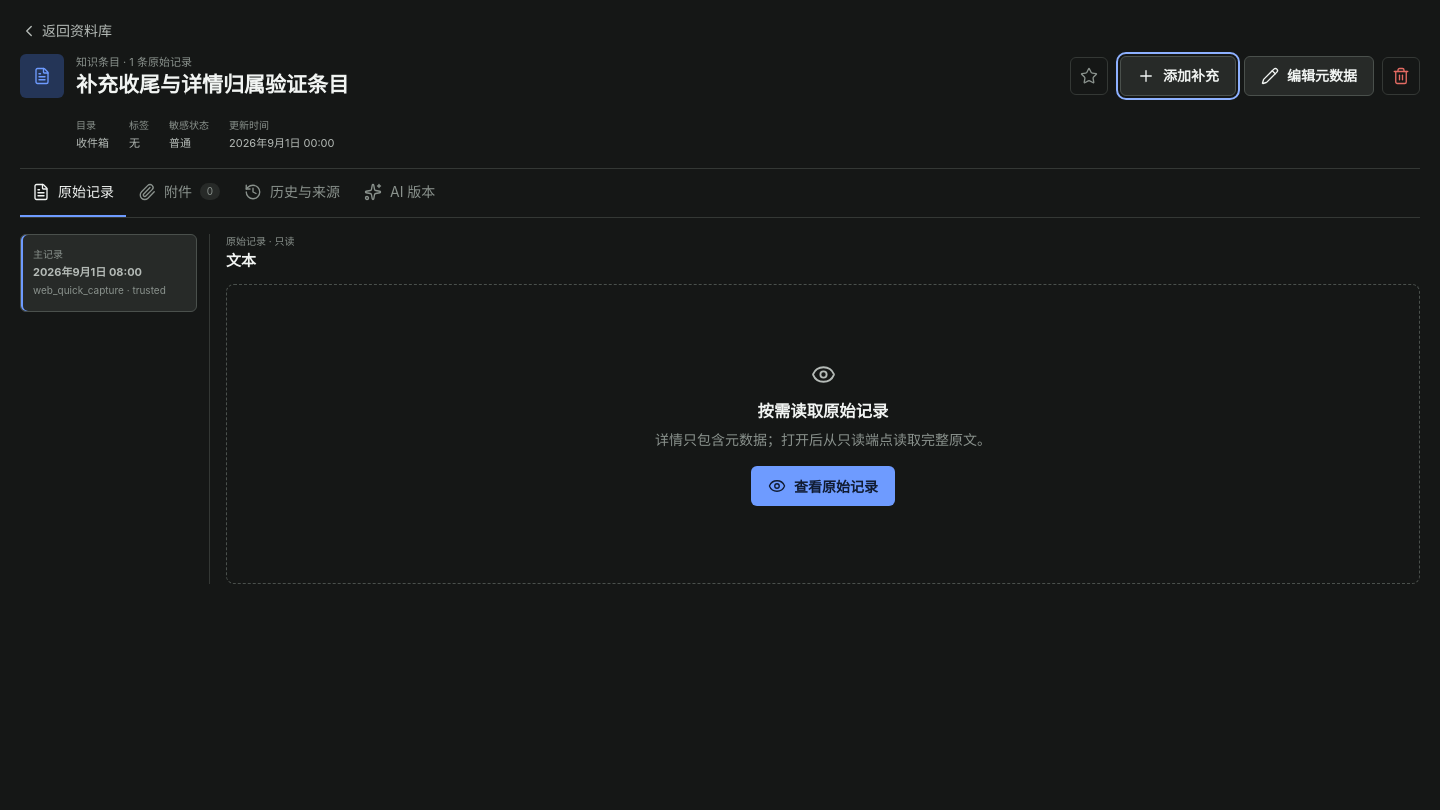
it: ItemDetailView supplement save refresh and detail GET ownership › case1 补充保存成功后焦点回到重载完成后的「添加补充」按钮（而非 BODY）
The image size is (1440, 810).
Click the button "添加补充".
click(1178, 76)  # box [1120, 56, 1236, 96]
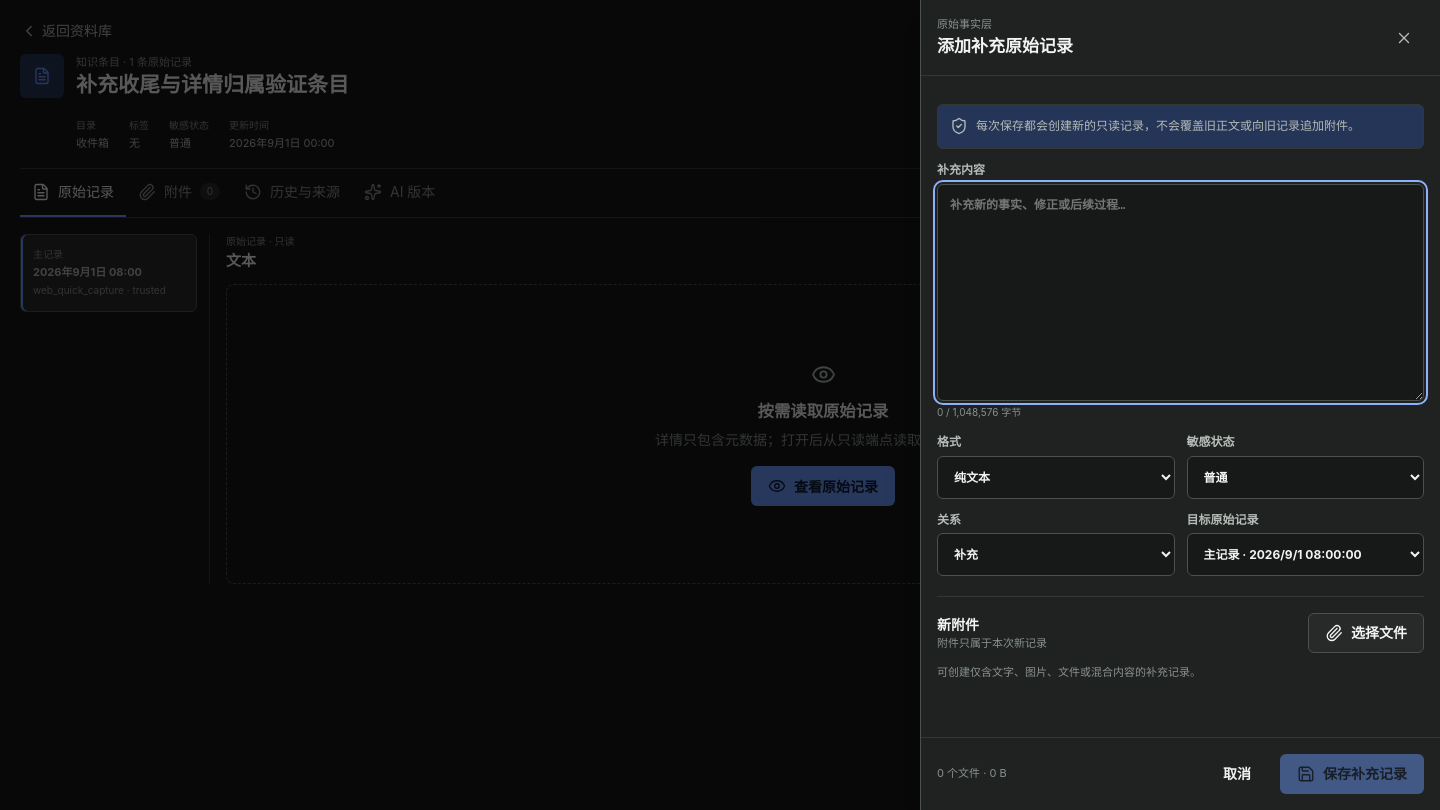
Expected: the dialog is shown, [920, 0, 1439, 809]
Expected: the text box labelled "补充内容 0 / 1,048,576 字节" is shown
Type "补充的新事实内容" into the text box labelled "补充内容 0 / 1,048,576 字节".
click(1180, 293); type("补充的新事实内容")  # box [937, 184, 1424, 402]
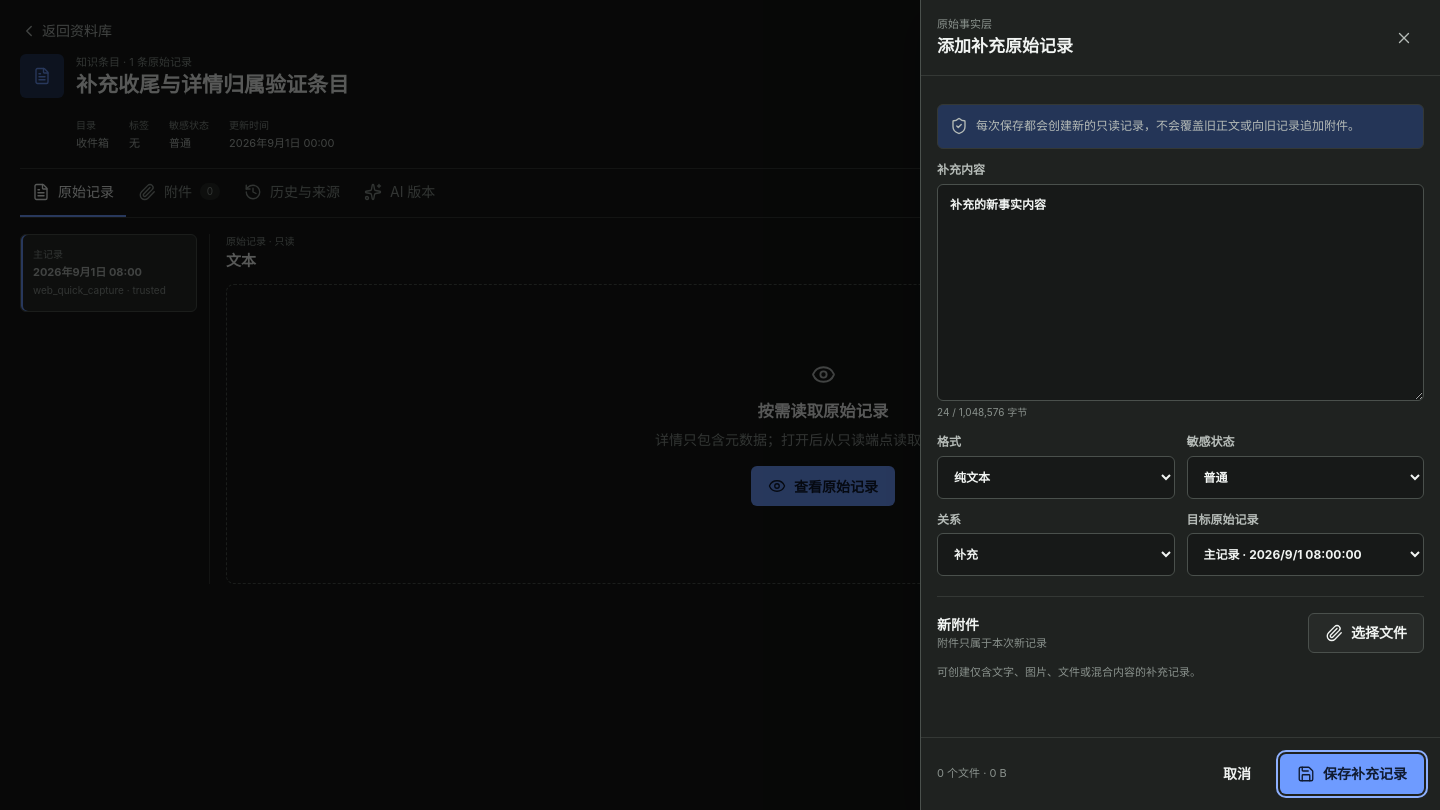
Expected: the dialog is shown, [920, 0, 1439, 809]
Expected: the button "保存补充记录" is shown
Click the button "保存补充记录".
click(1352, 774)  # box [1280, 754, 1424, 794]
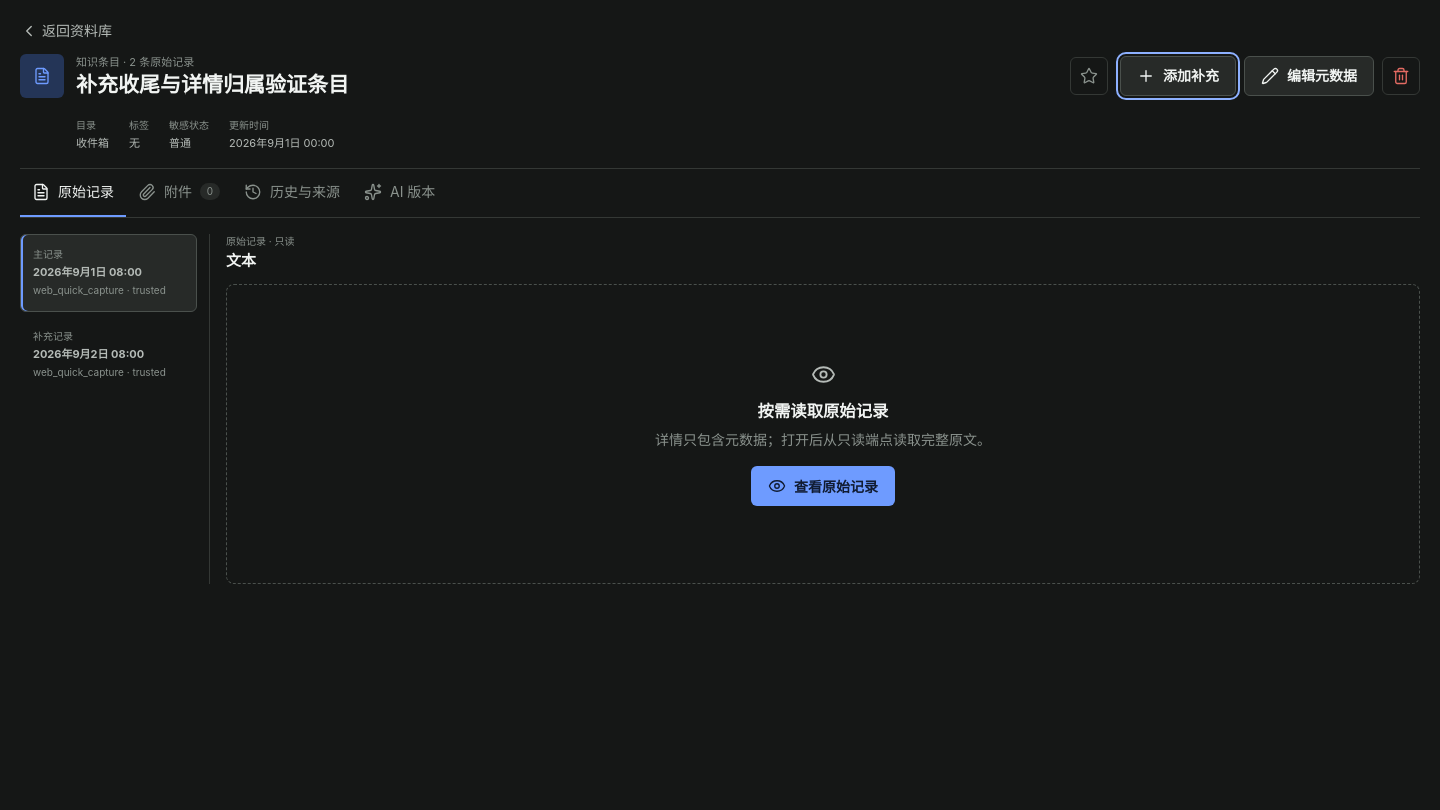
Expected: the button "添加补充" is shown, [1120, 56, 1236, 96]
Expected: the text "知识条目 · 2 条原始记录" is shown, [76, 55, 194, 69]
